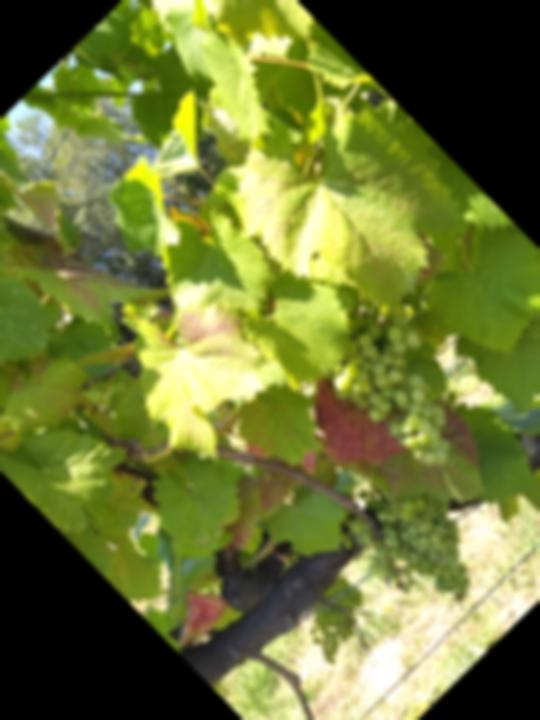grape: (300, 286, 501, 488), (315, 448, 503, 637), (287, 574, 391, 678)
